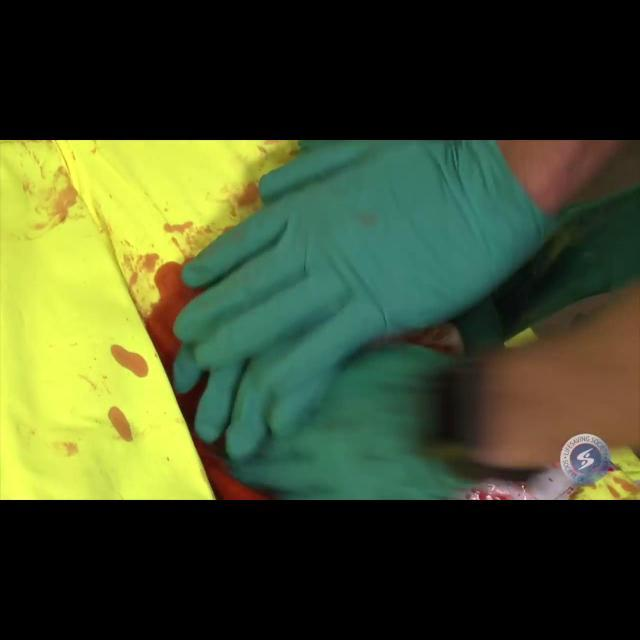blood: (176, 380, 272, 500), (142, 261, 202, 377), (110, 344, 148, 377), (108, 408, 131, 441), (54, 184, 76, 215), (142, 252, 159, 272)
